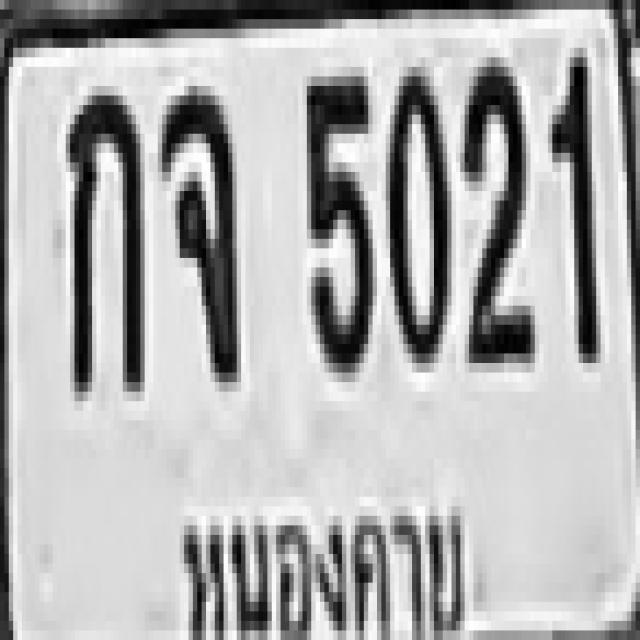-: (158, 81, 237, 378), (66, 86, 140, 382)
0: (386, 58, 447, 354)
1: (548, 48, 592, 353)
2: (460, 53, 530, 358)
5: (302, 67, 368, 363)
NKI: (164, 472, 483, 640)
